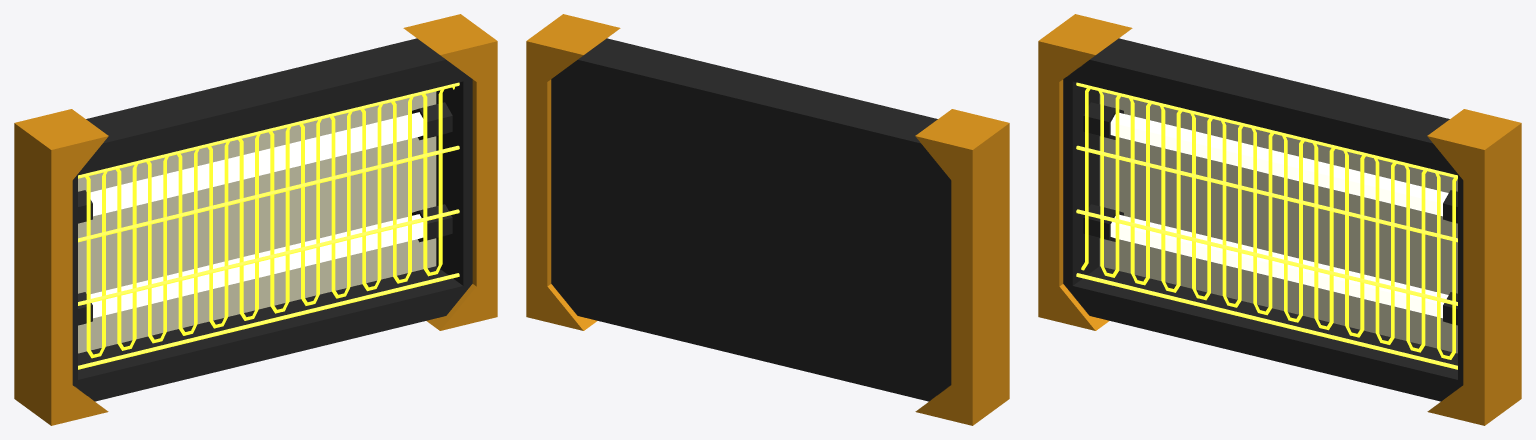
The model's file is electricKillWall.fbx.
3 views of the same model, side by side, from view 1: azimuth 30°, elevation 25°; view 2: azimuth 150°, elevation 25°; view 3: azimuth 330°, elevation 25° (orthographic).
Visible parts, largest first — view 1: electricKillWall; view 2: electricKillWall; view 3: electricKillWall.
Boxes of the visible parts, x1,y1,x2,y2 form: electricKillWall: (14, 14, 497, 425); electricKillWall: (526, 14, 1009, 425); electricKillWall: (1038, 14, 1521, 425).
Size of the model in its own units: 405 by 239 by 58.2.
